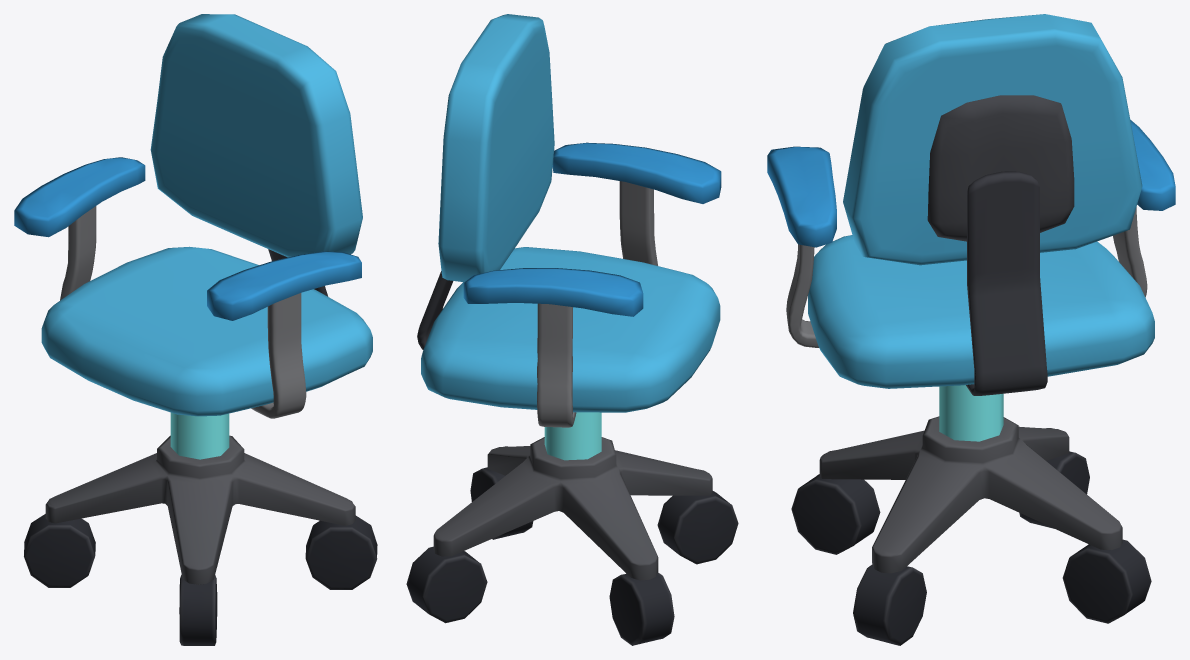
File: office_chair2.fbx
3 renders of one model, left to right at view 1: azimuth 30°, elevation 25°; view 2: azimuth 150°, elevation 25°; view 3: azimuth 270°, elevation 25°, orthographic. The views are drawn at different scales.
Visible parts, largest first — view 1: office_chair2; view 2: office_chair2; view 3: office_chair2.
Boxes of the visible parts, x1=… form: office_chair2: x1=14, y1=14, x2=377, y2=645; office_chair2: x1=406, y1=14, x2=738, y2=645; office_chair2: x1=767, y1=14, x2=1175, y2=645.
Bounding box in the file's own units: 4.38 × 7.9 × 4.97.
